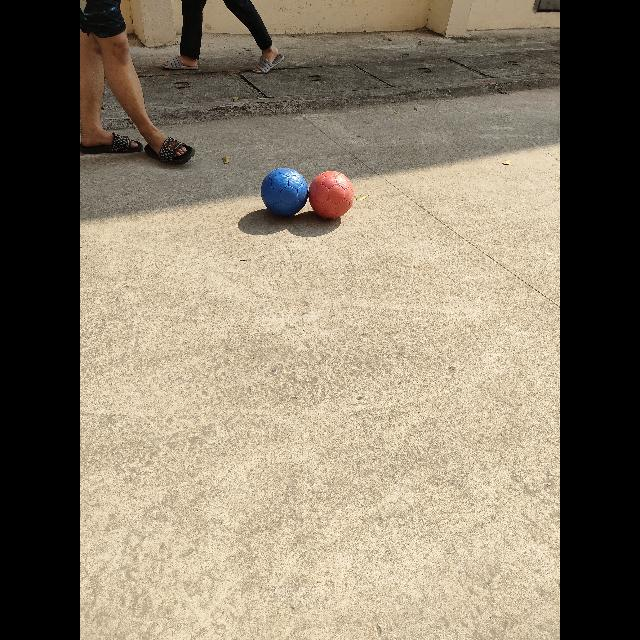B: (261, 168, 308, 216)
R: (309, 171, 354, 219)
